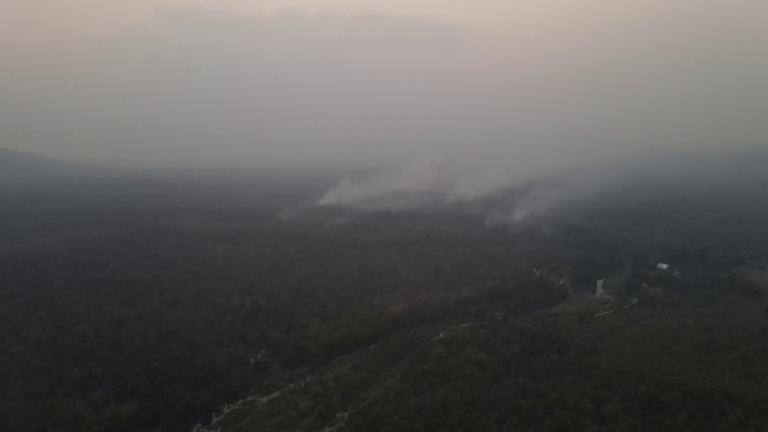smoke: (318, 128, 604, 237)
